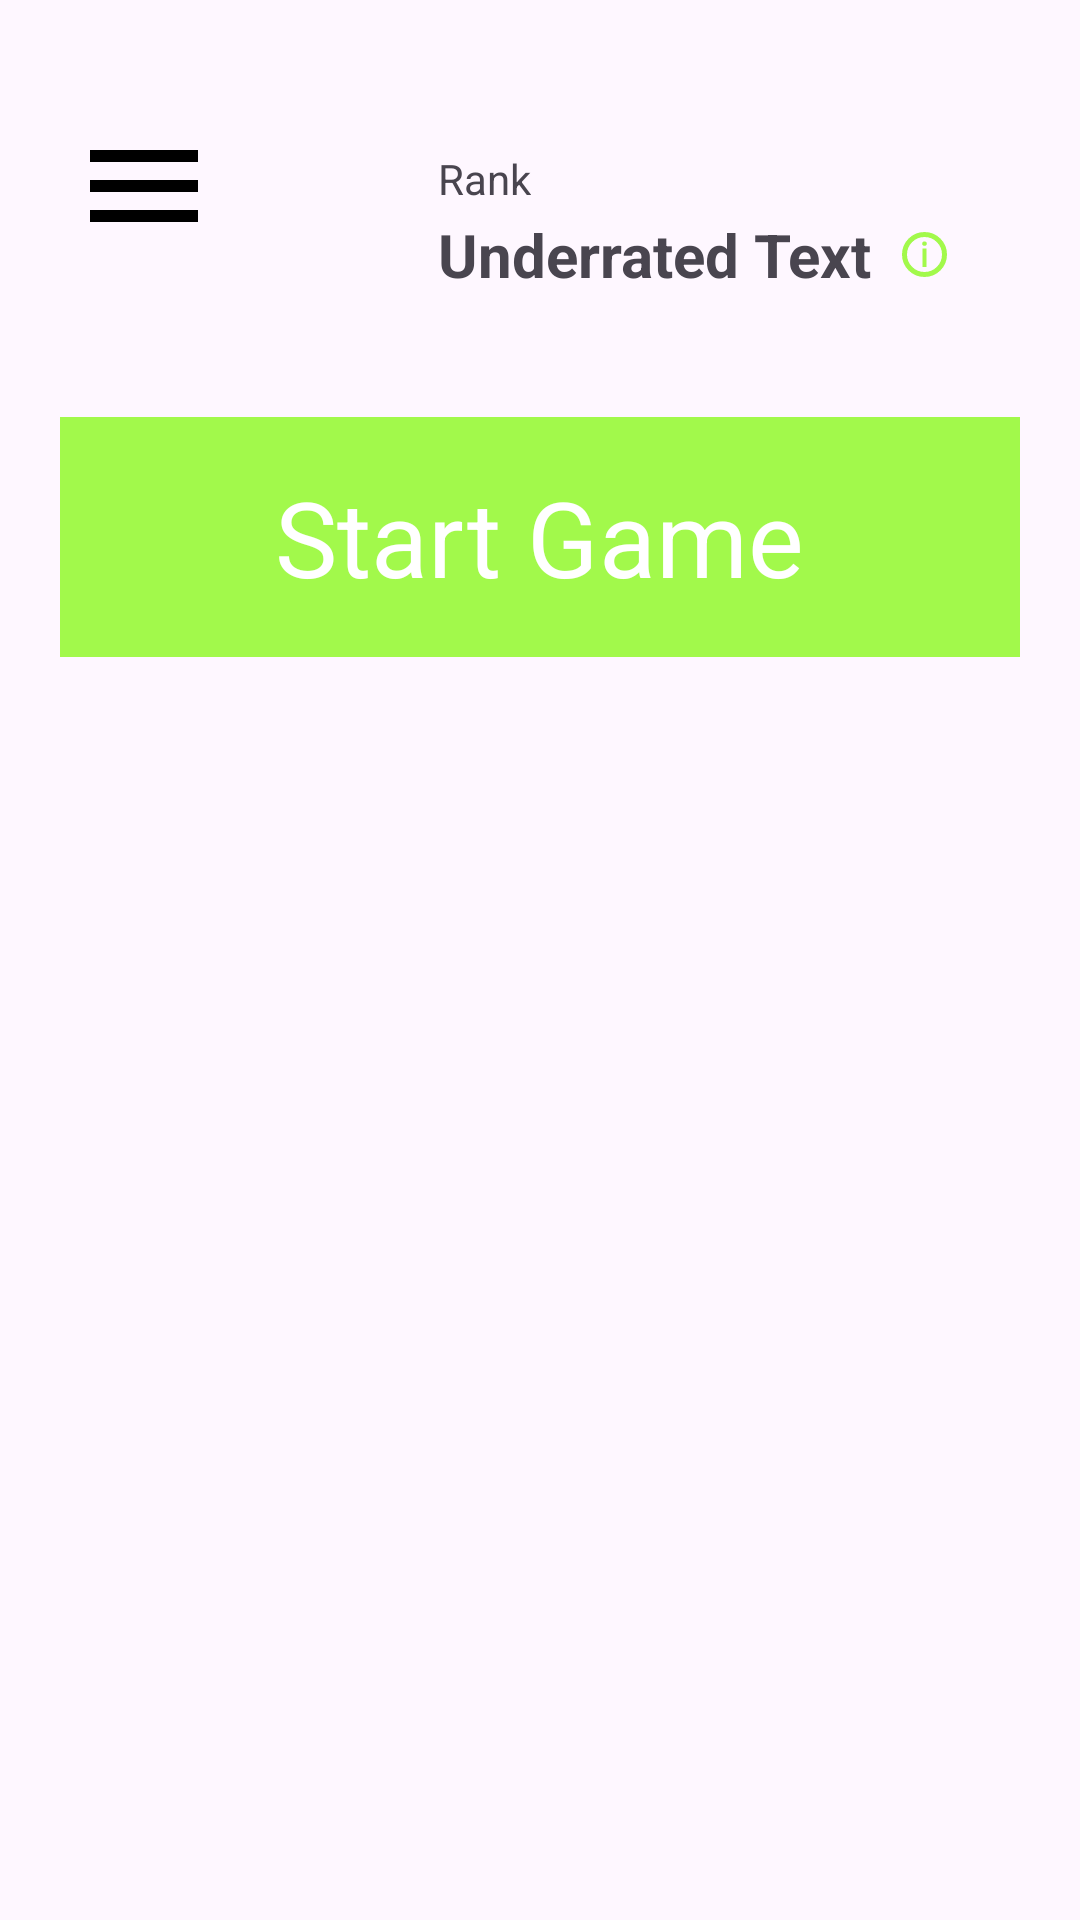

Screen size 1080w x 1920h. Icon name, then its box in pixels as [x1=x1, y1=y1, x2=x2, y2=y2]:
information: [x1=902, y1=232, x2=947, y2=277]
